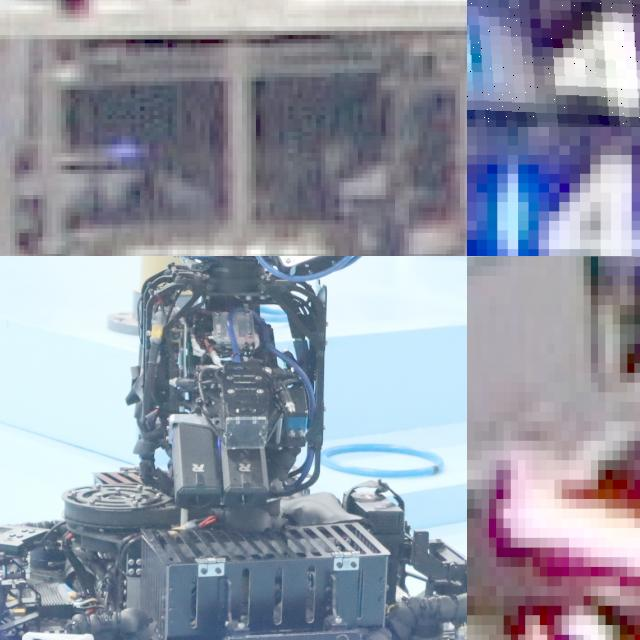B4: (467, 0, 640, 126), (487, 145, 640, 256)
R3: (518, 605, 640, 640)
